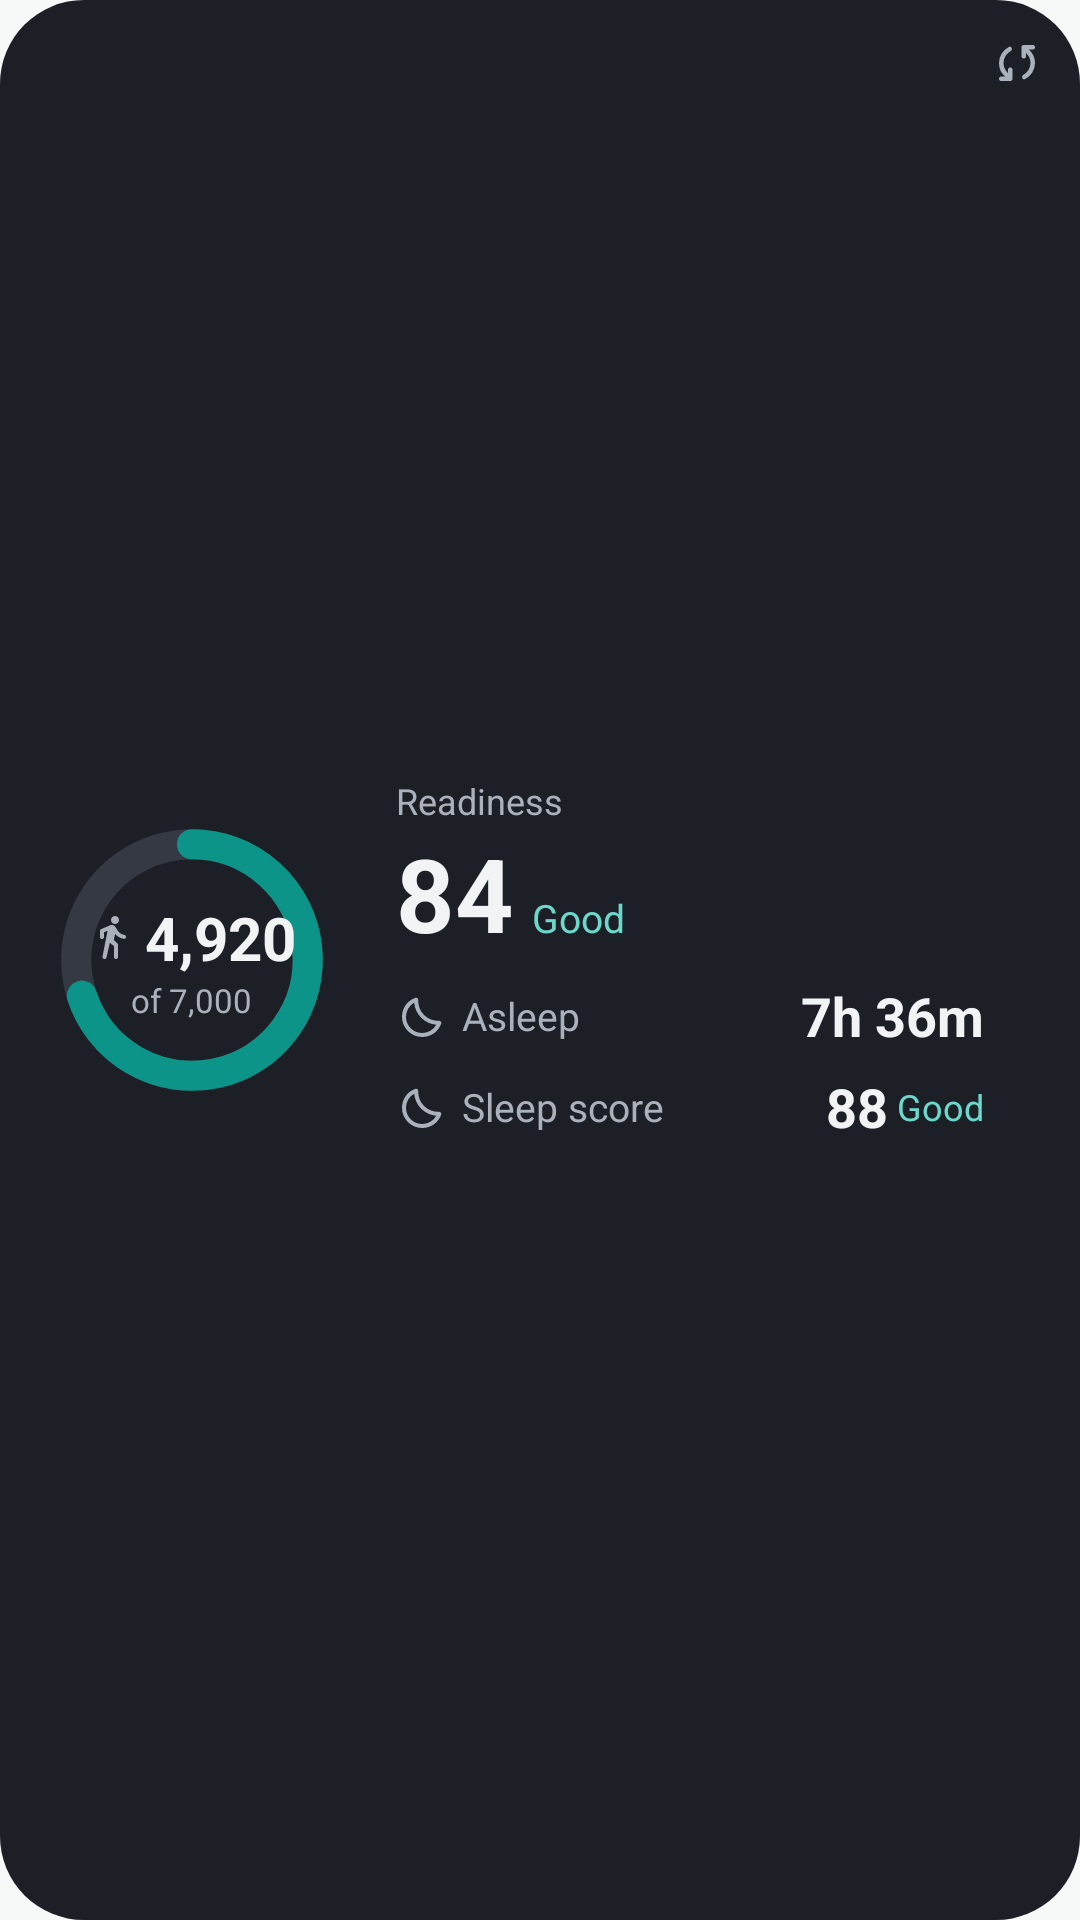

Named icons in this screenshot (1080*1920) and their centers, point (x, y):
sym bedtime: point (422, 1017), point (422, 1108)
sym sync: point (1017, 63)
